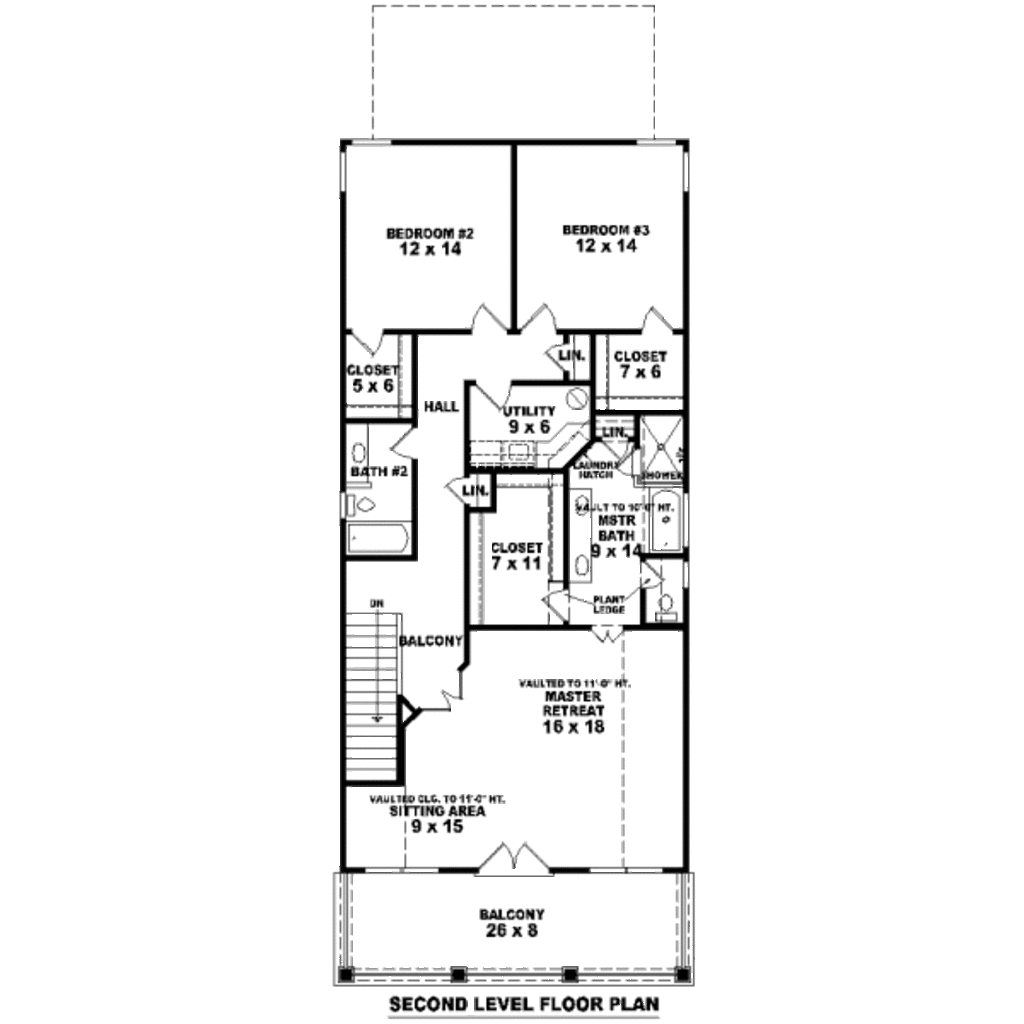door: (470, 836, 558, 883), (630, 307, 680, 343), (468, 303, 515, 338), (467, 384, 517, 412), (348, 322, 385, 357), (520, 300, 556, 335), (388, 423, 416, 462)
stairs: (342, 601, 408, 781)
tub: (646, 482, 689, 557), (343, 518, 415, 557)
